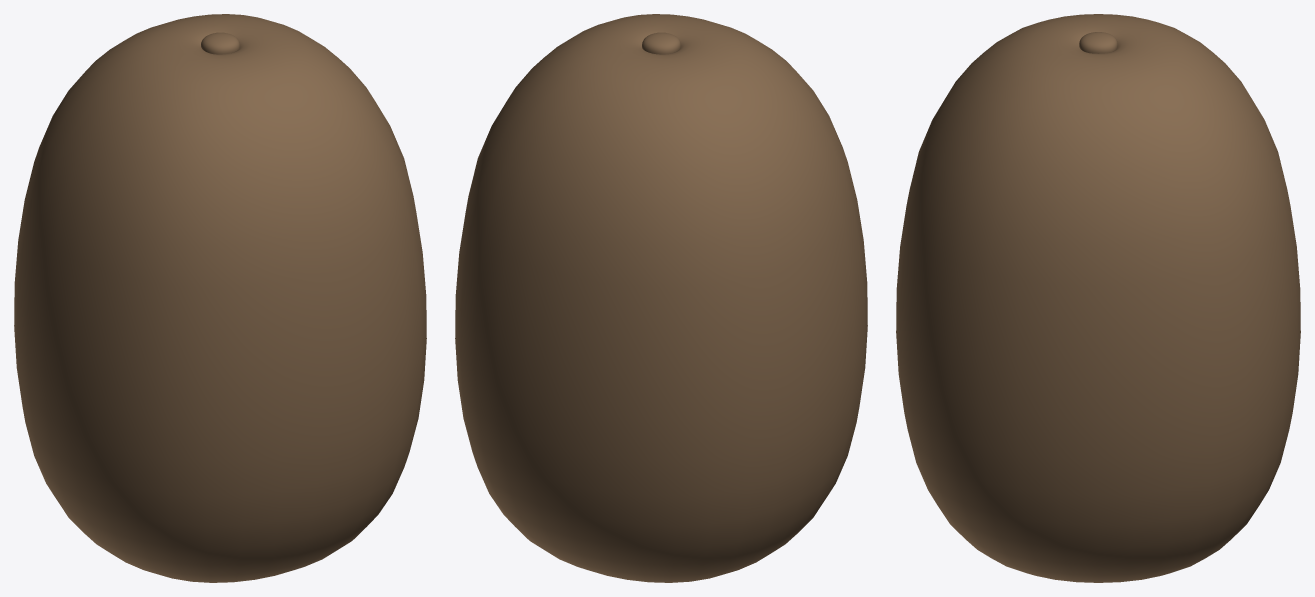
File: kiwi_new.fbx
The picture shows the model from 3 angles, left to right: view 1: azimuth 30°, elevation 25°; view 2: azimuth 150°, elevation 25°; view 3: azimuth 270°, elevation 25°; orthographic projection.
Visible parts, largest first — view 1: 立方体; view 2: 立方体; view 3: 立方体.
Part boxes in pixels (left/top/right/bottom): 立方体: left=14, top=14, right=426, bottom=582; 立方体: left=455, top=14, right=867, bottom=582; 立方体: left=896, top=14, right=1300, bottom=582.
Size of the model in its own units: 208 by 292 by 208.
